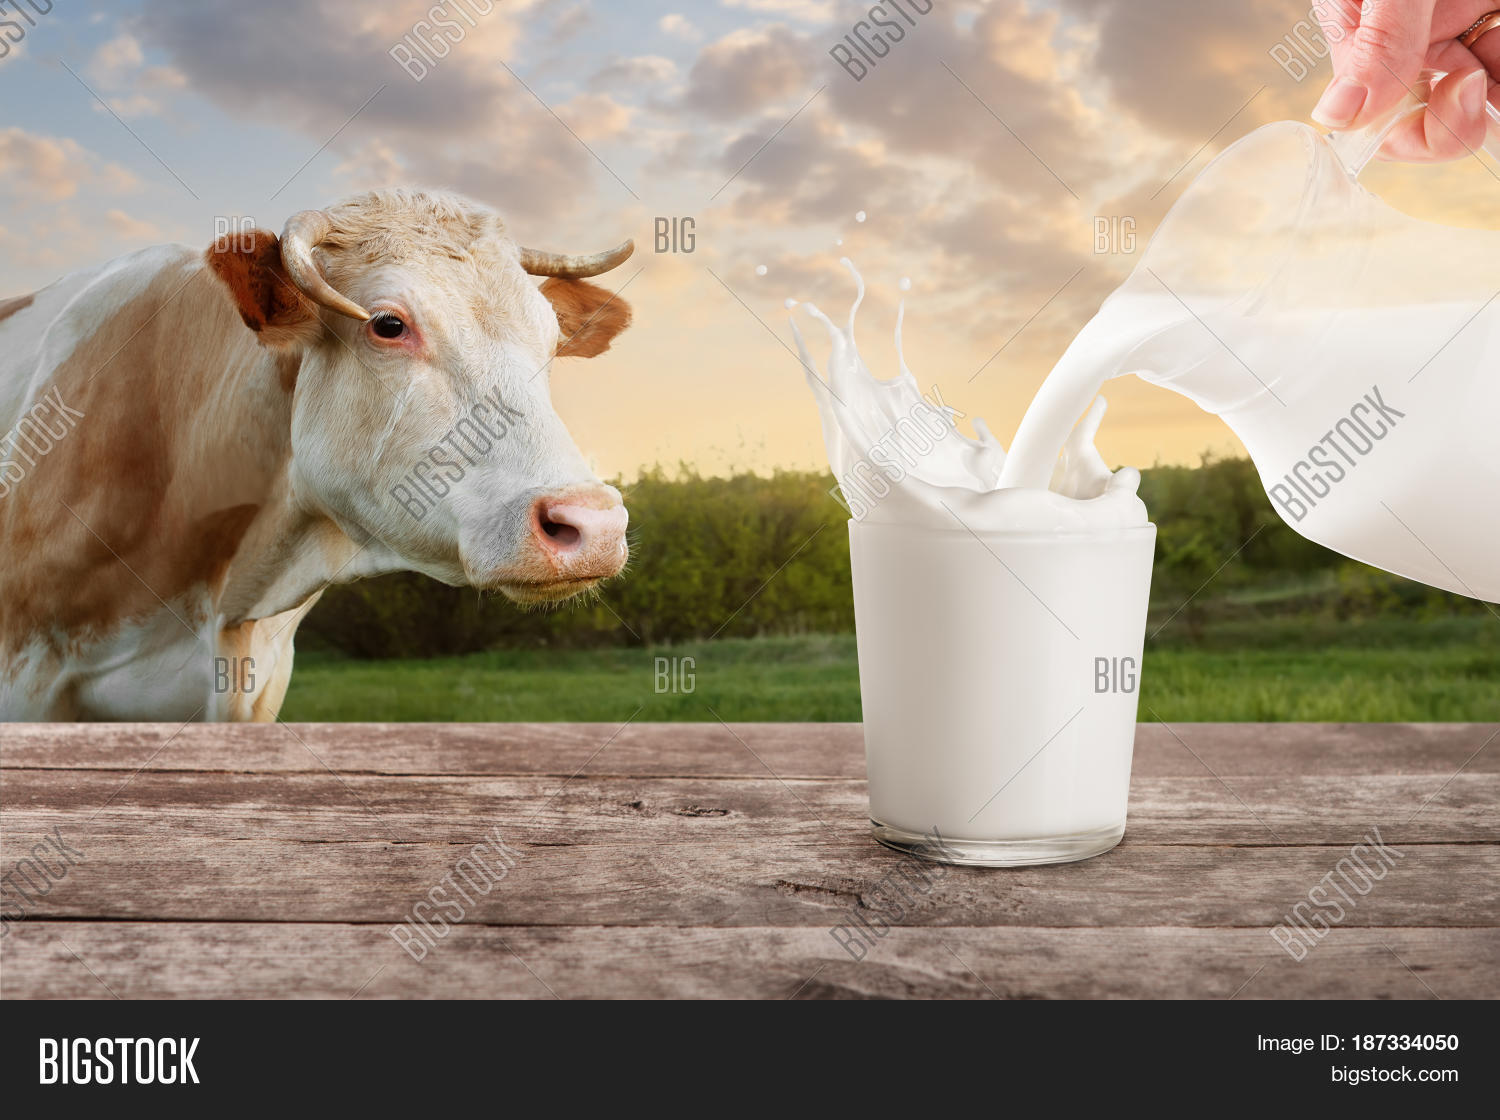glass of milk: (804, 440, 1189, 891)
